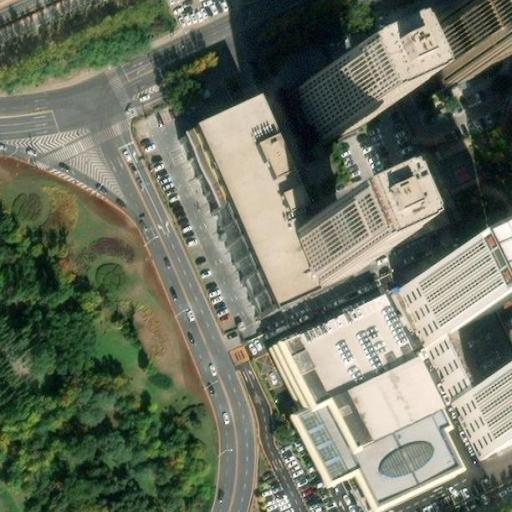building: (281, 293, 479, 512), (200, 95, 320, 303), (418, 5, 501, 88), (392, 268, 470, 350), (296, 63, 373, 140), (421, 325, 497, 403), (294, 209, 368, 286)
